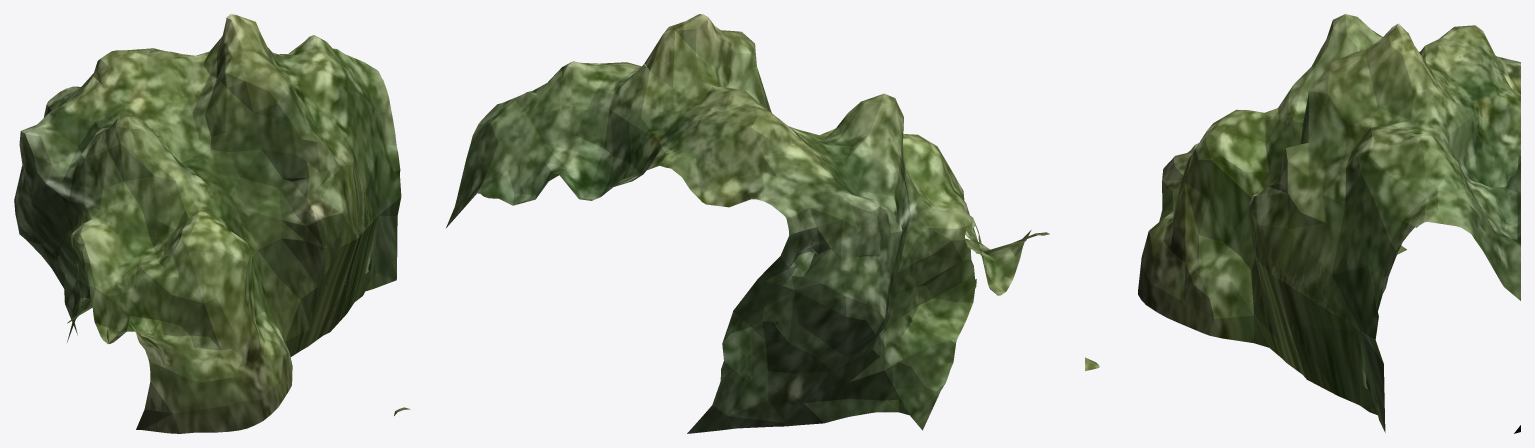
3 views of the same model, side by side, from view 1: azimuth 30°, elevation 25°; view 2: azimuth 150°, elevation 25°; view 3: azimuth 270°, elevation 25° (orthographic). The views are drawn at different scales.
Bounding box in the file's own units: 2.95 × 2.43 × 2.95.
Materials: 4 (4 with a texture image).
